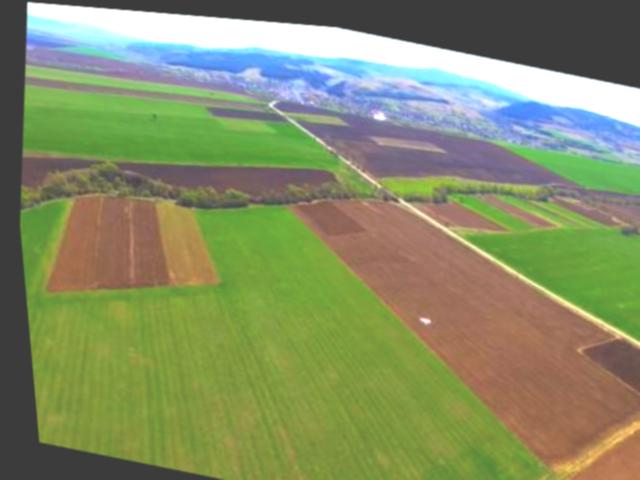uav: (409, 300, 431, 324)
